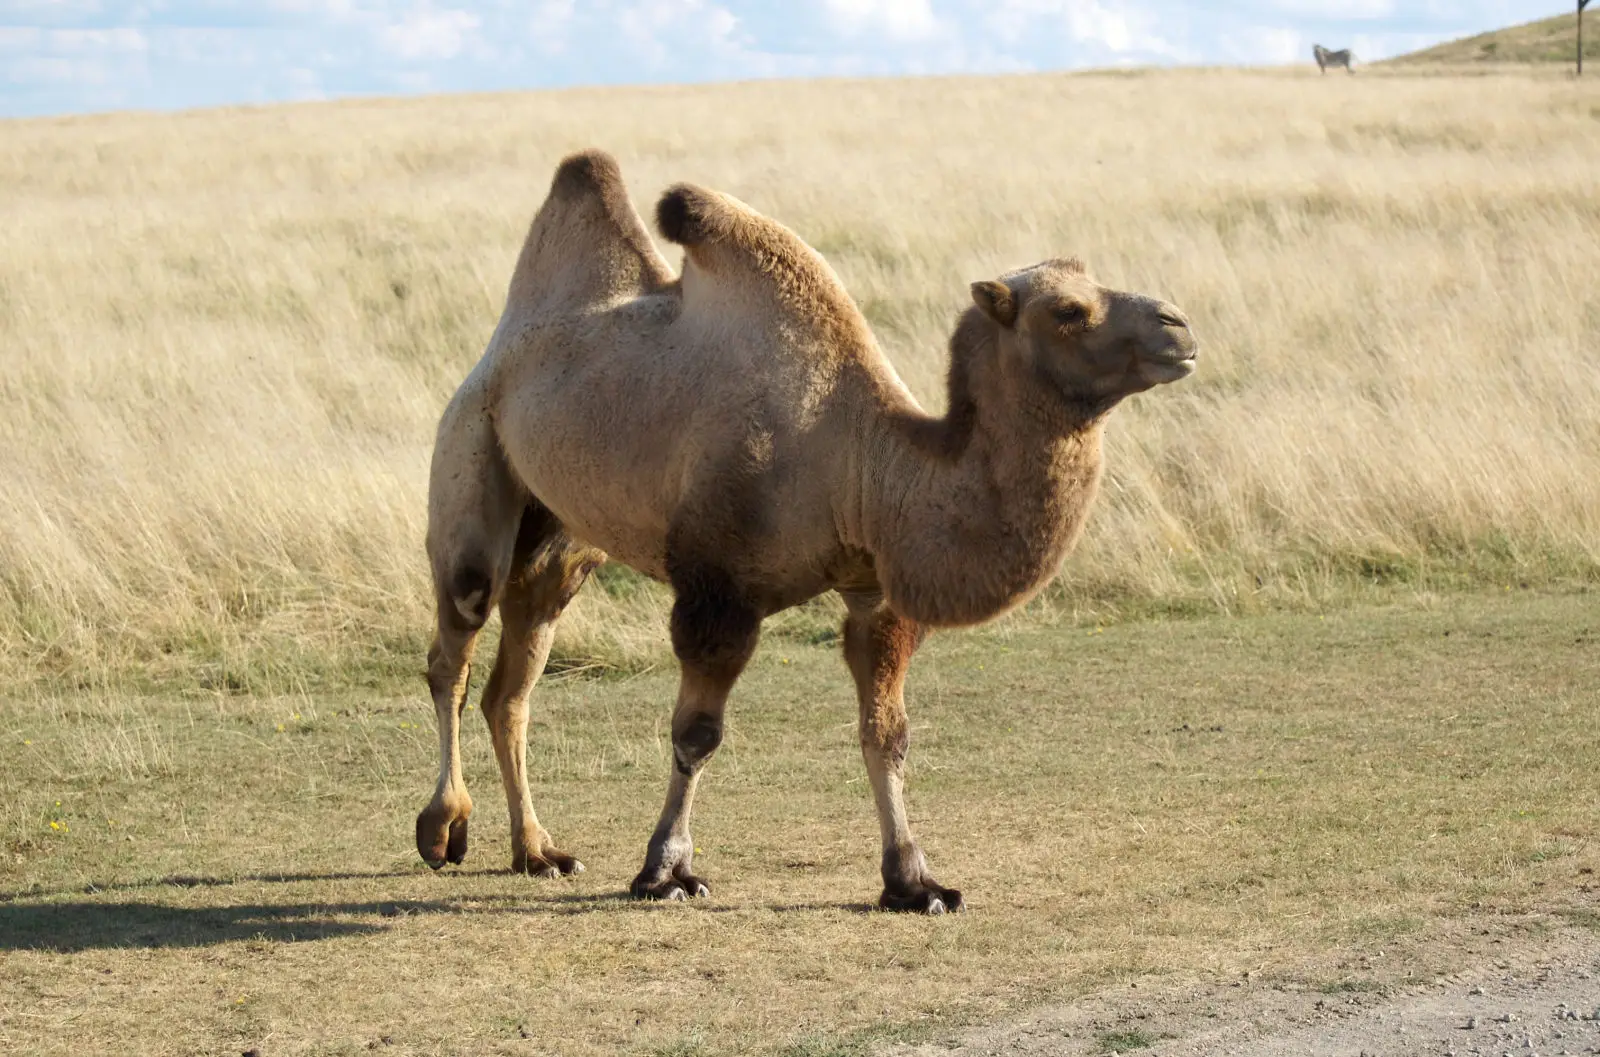camel: (411, 137, 1199, 940)
